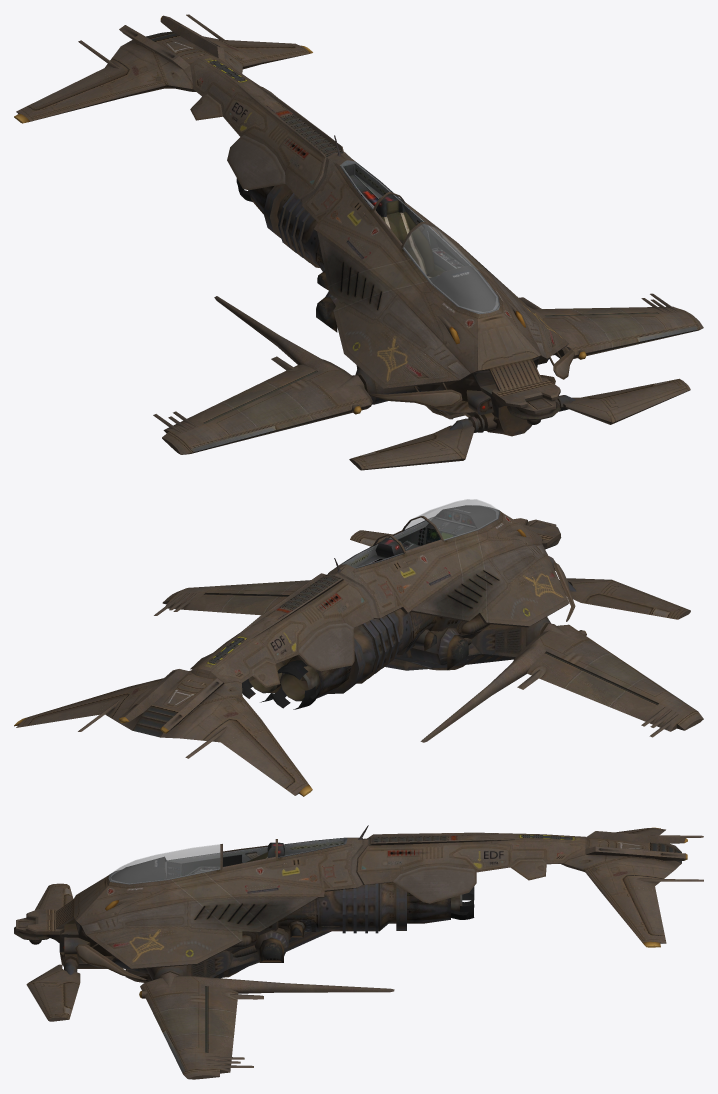
Rendered from AAX Raven.FBX.
3 views of the same model, one above another, from view 1: azimuth 30°, elevation 25°; view 2: azimuth 150°, elevation 25°; view 3: azimuth 270°, elevation 25° (orthographic). The views are drawn at different scales.
Visible parts, largest first — view 1: DrawCall_0761; view 2: DrawCall_0761; view 3: DrawCall_0761.
Boxes of the visible parts, box(x1,y1,x2,y2) form: DrawCall_0761: box(14, 14, 703, 470); DrawCall_0761: box(14, 499, 703, 796); DrawCall_0761: box(14, 825, 703, 1079).
Bounding box in the file's own units: 28.78 × 9.44 × 39.49.
Materials: 3 (2 with a texture image).
